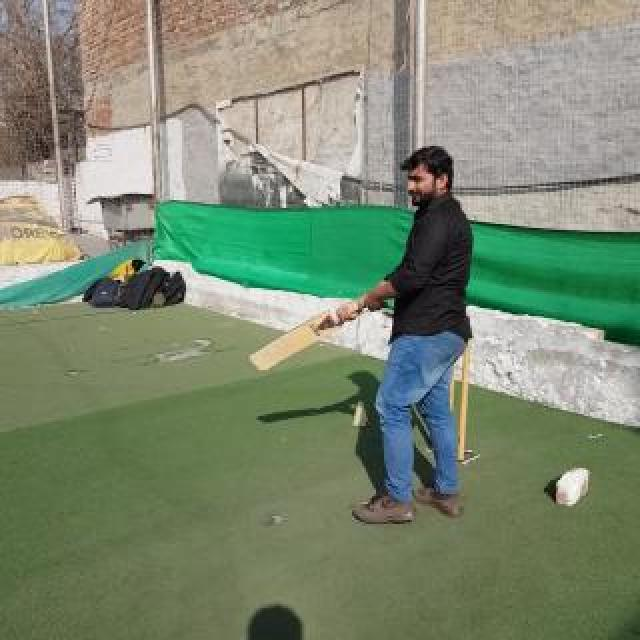bat: (250, 311, 346, 371)
